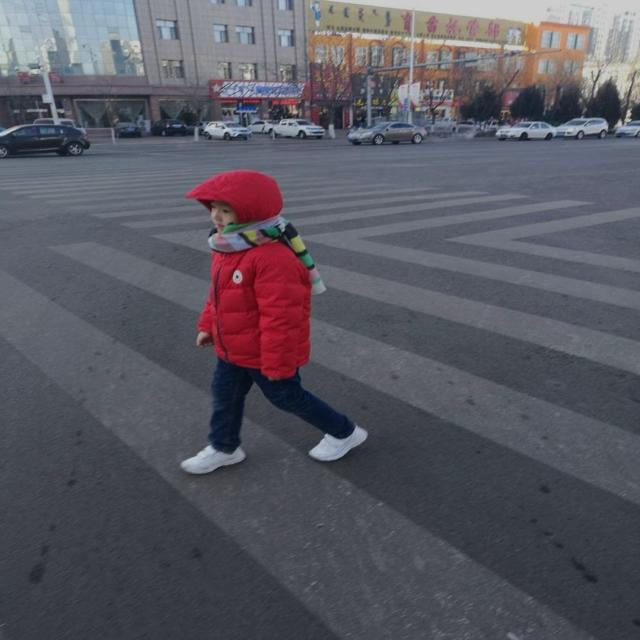non-fight: (191, 169, 354, 479)
